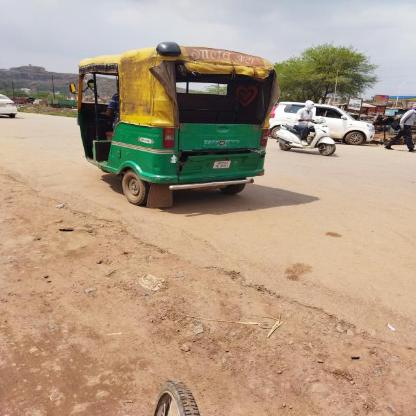auto-rikshaw: (64, 47, 270, 210)
